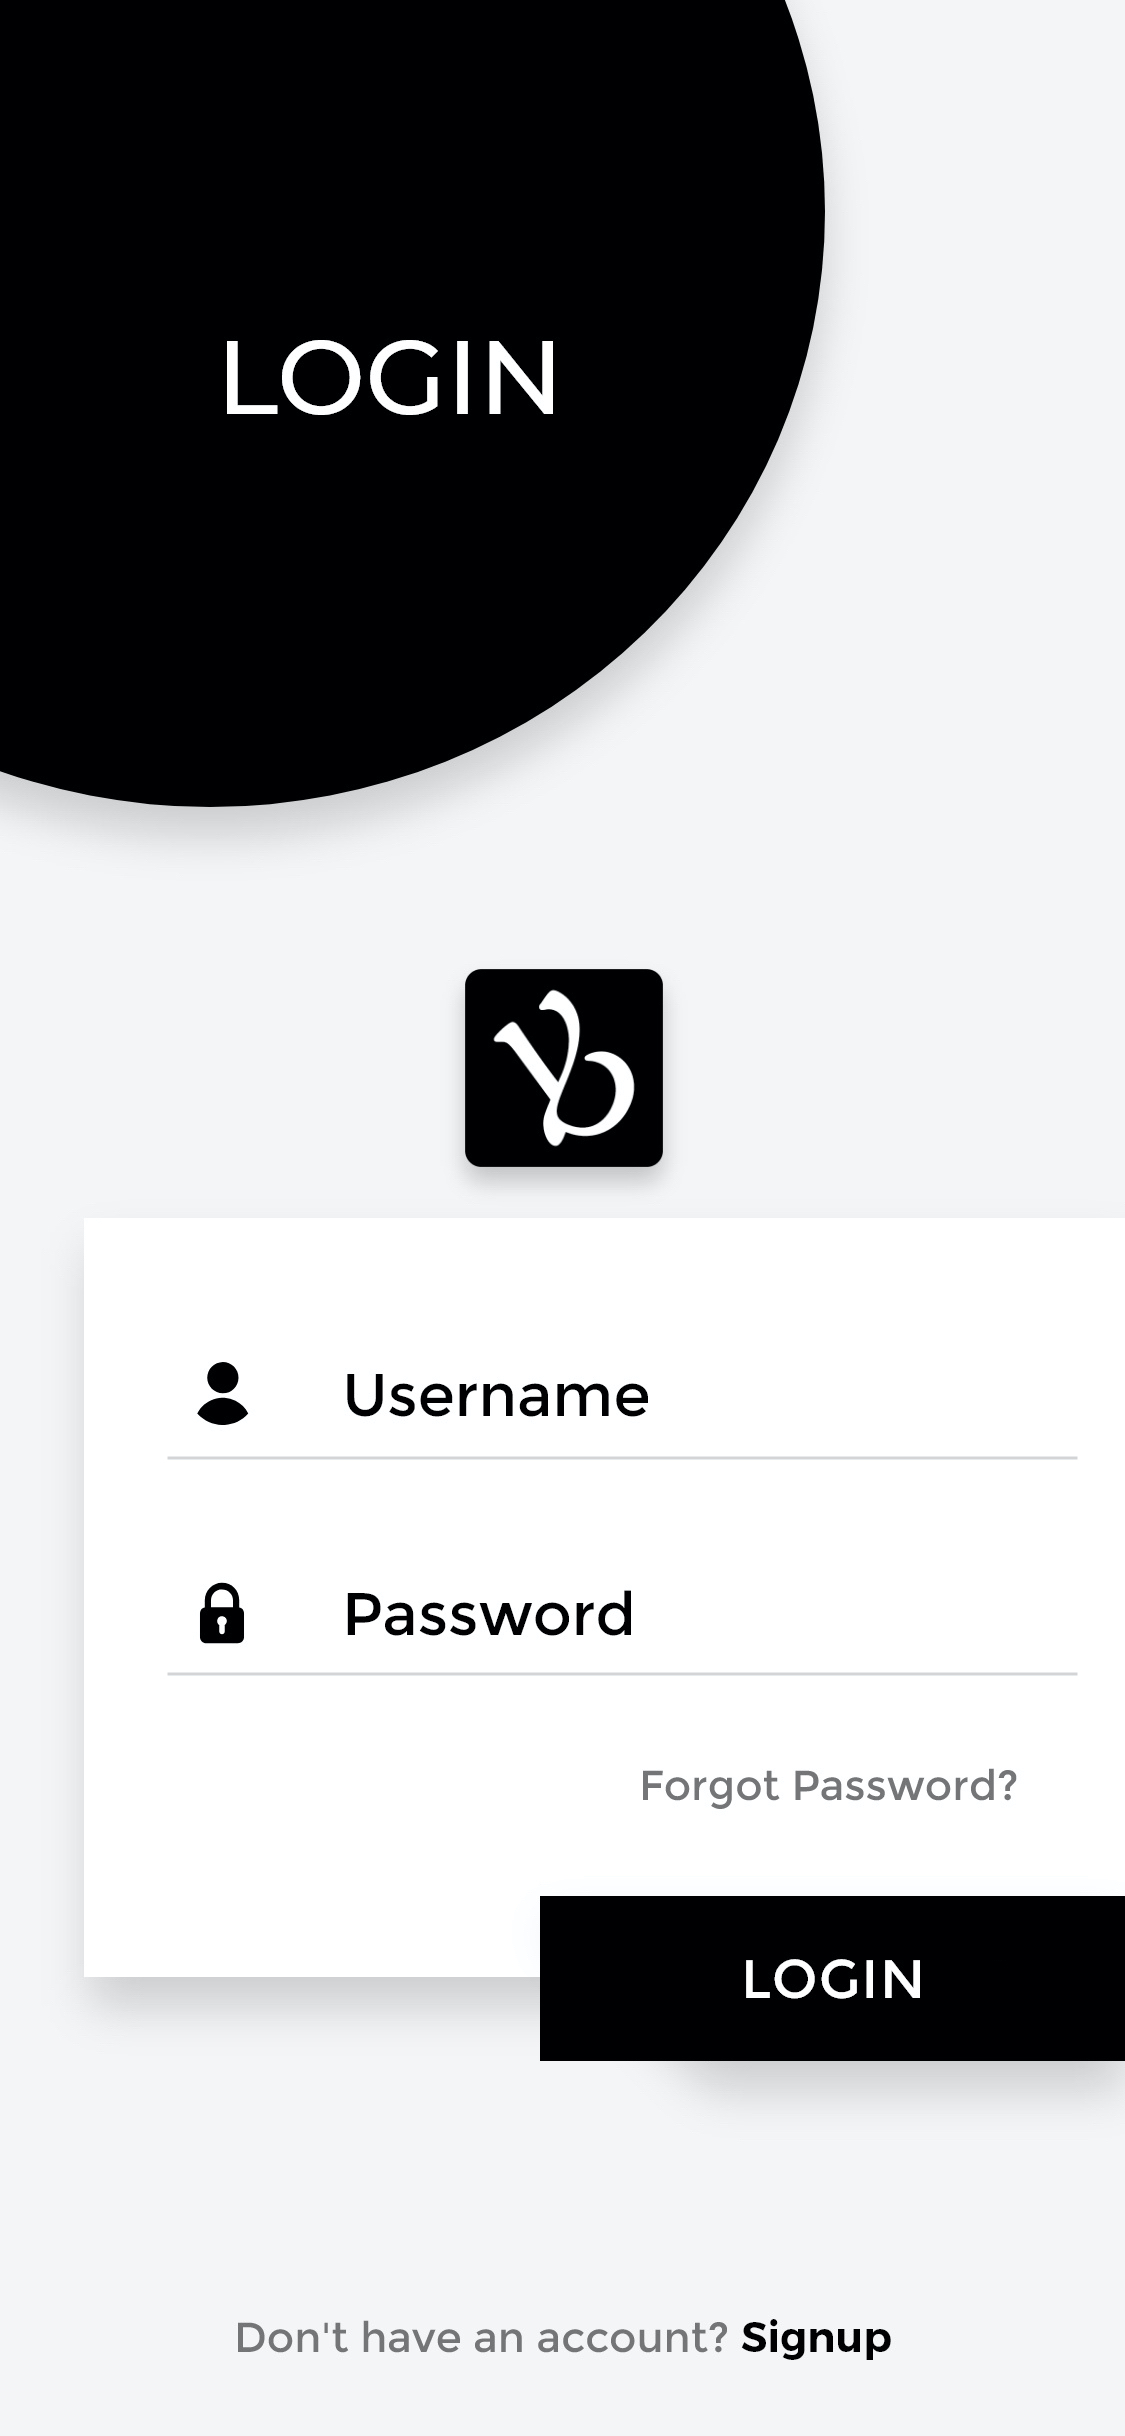EditText: (166, 1362, 1078, 1460), (166, 1582, 1078, 1676)
Icon: (197, 1362, 250, 1426), (200, 1582, 246, 1644)
Image: (465, 969, 664, 1168)
Text: (238, 2318, 892, 2361), (227, 340, 555, 416), (642, 1766, 1018, 1811)
TextButton: (541, 1895, 1125, 2062)
